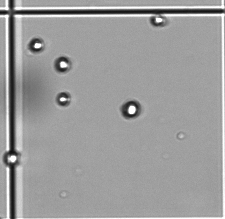Living Cell: (121, 99, 140, 119), (53, 55, 71, 73), (3, 151, 23, 167), (27, 36, 45, 53), (56, 91, 71, 107), (150, 13, 167, 27)
